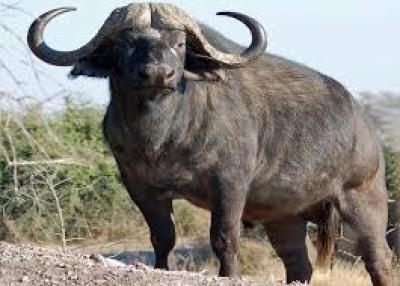buffalo: (27, 3, 392, 285)
